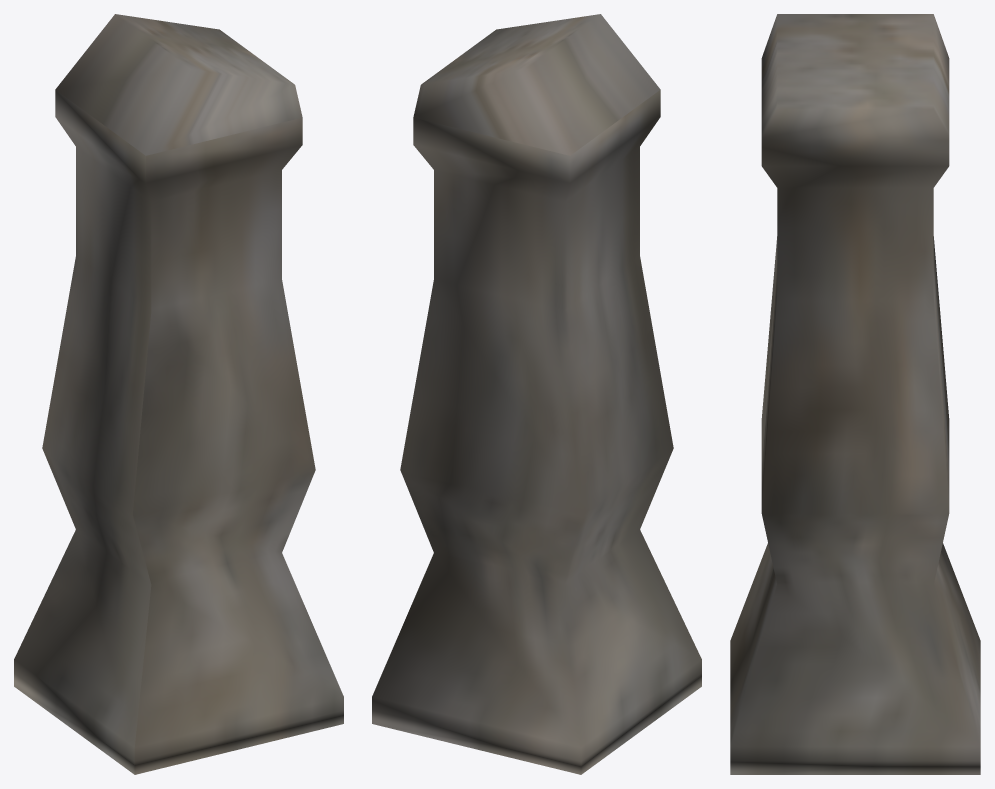
Rendered from ruin_pillar1-s.glb.
3 views of the same model, side by side, from view 1: azimuth 30°, elevation 25°; view 2: azimuth 150°, elevation 25°; view 3: azimuth 270°, elevation 25° (orthographic). The views are drawn at different scales.
Visible parts, largest first — view 1: ruin_pillar1; view 2: ruin_pillar1; view 3: ruin_pillar1.
Part boxes in pixels (<box>): ruin_pillar1: <box>14,14,343,774</box>; ruin_pillar1: <box>372,14,701,774</box>; ruin_pillar1: <box>730,14,980,774</box>.
Bounding box in the file's own units: 1.6 × 4.9 × 1.6.
1 material, 1 textured.
